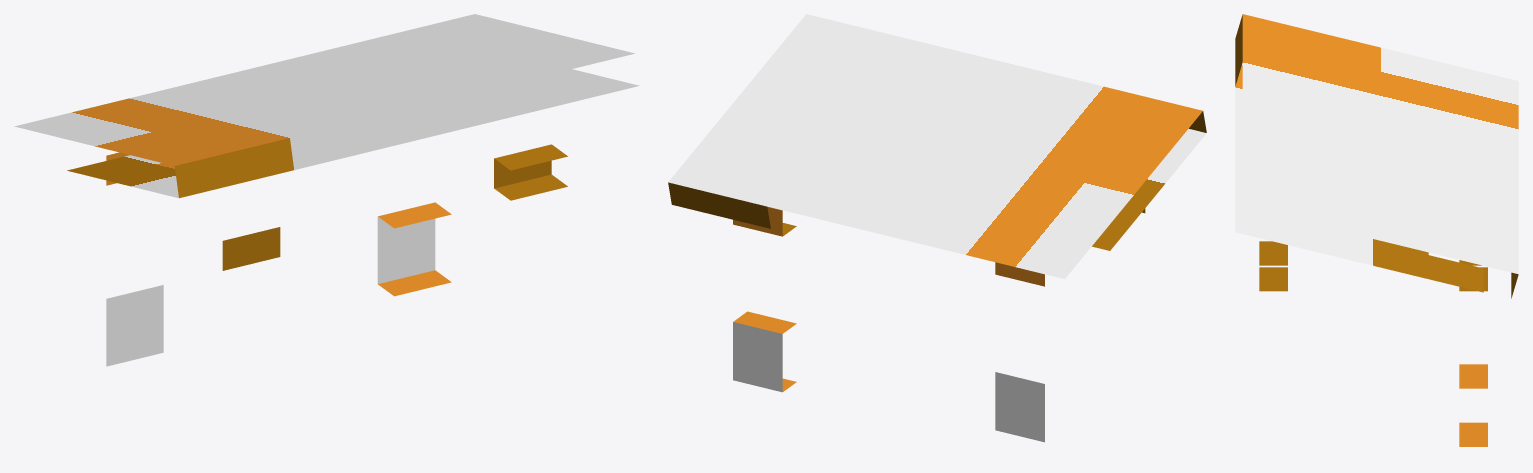
The model's file is Tienda.obj.
The picture shows the model from 3 angles, left to right: view 1: azimuth 30°, elevation 25°; view 2: azimuth 150°, elevation 25°; view 3: azimuth 270°, elevation 25°; orthographic projection. The views are drawn at different scales.
Parts seen in each view (by area): view 1: cube; view 2: cube; view 3: cube.
Boxes of the visible parts, x1,y1,x2,y2 form: cube: (14, 14, 639, 366); cube: (668, 14, 1206, 442); cube: (1235, 14, 1518, 446).
Size of the model in its own units: 1 by 0.6364 by 0.6199.
